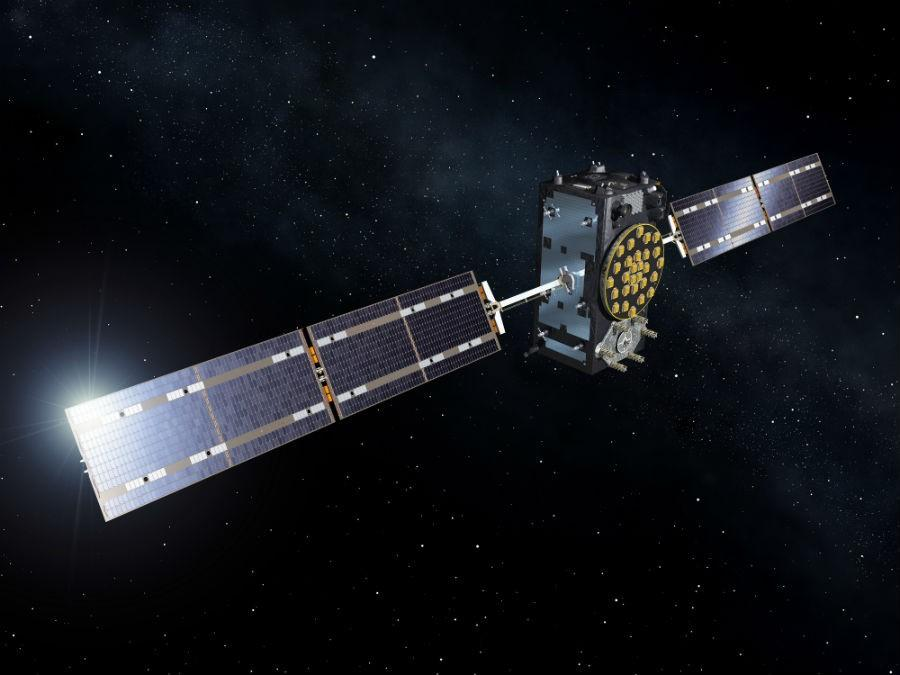body: (530, 158, 672, 378)
solar: (62, 269, 505, 524), (669, 151, 839, 268)
thruster: (599, 180, 607, 189), (554, 168, 561, 178), (641, 168, 648, 178), (596, 159, 603, 167), (591, 159, 596, 166)
